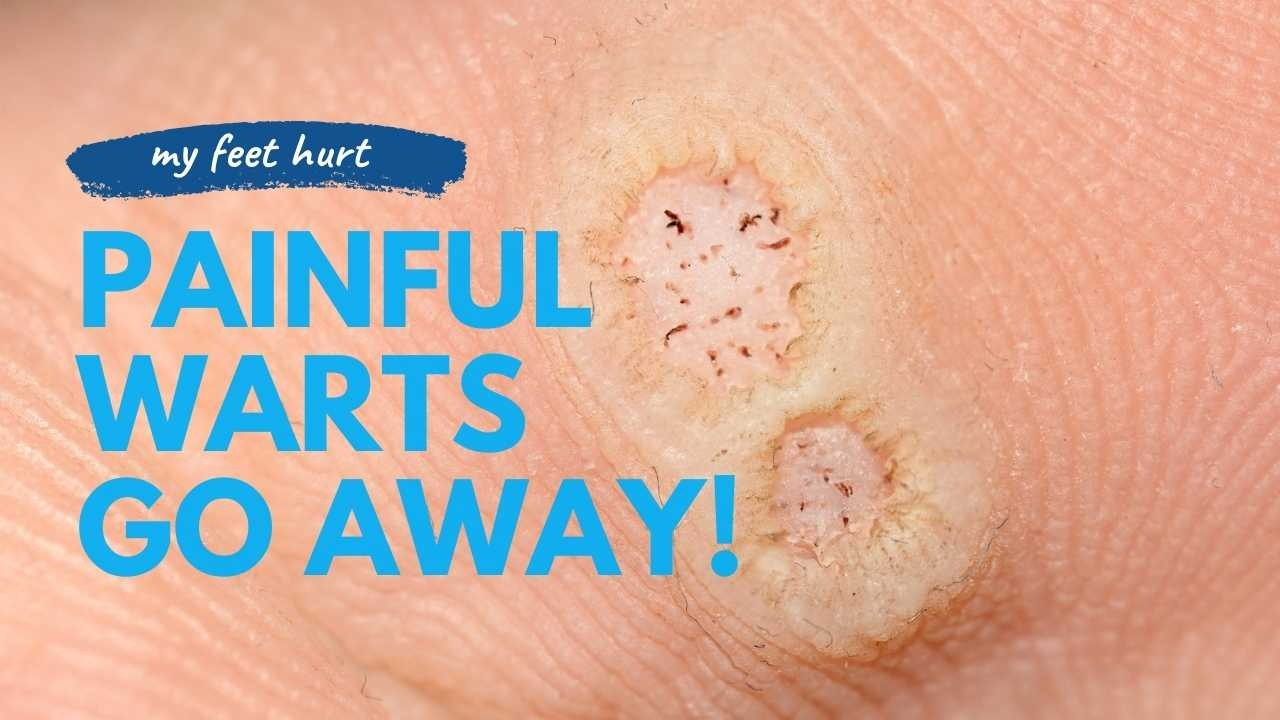Warts: (368, 318, 913, 490)
